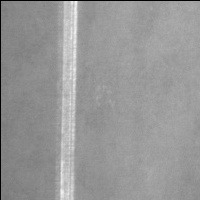scratches: (56, 1, 80, 200)
